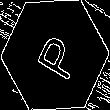P_NW: (28, 27, 82, 83)
